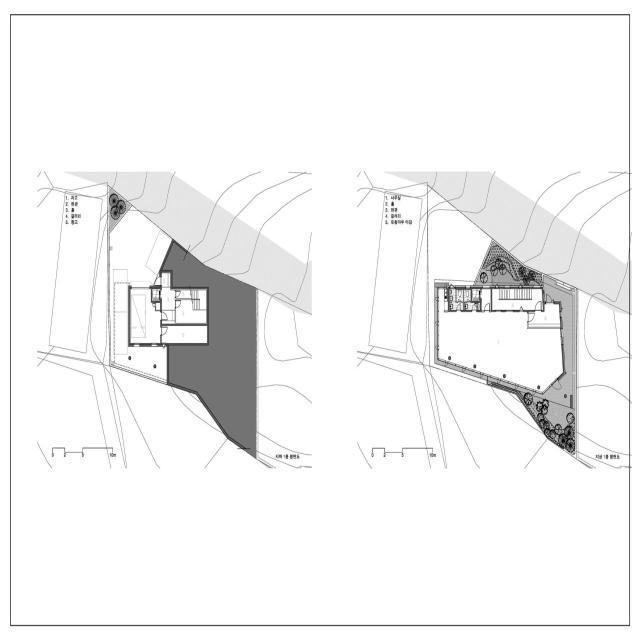space_front: (528, 304, 560, 327), (162, 272, 171, 287)
space_kitchen: (439, 289, 448, 311)
space_other: (439, 311, 563, 393), (130, 289, 160, 343), (492, 289, 543, 310), (162, 326, 207, 343), (176, 300, 207, 323), (160, 287, 175, 324), (480, 289, 491, 310), (176, 289, 192, 298), (152, 289, 160, 301), (472, 289, 480, 301), (156, 303, 160, 310), (478, 303, 480, 310)
space_staircase: (499, 289, 532, 300), (192, 289, 207, 310)
space_toilet: (449, 289, 463, 310), (456, 289, 463, 302), (464, 303, 477, 310), (464, 289, 471, 302)
